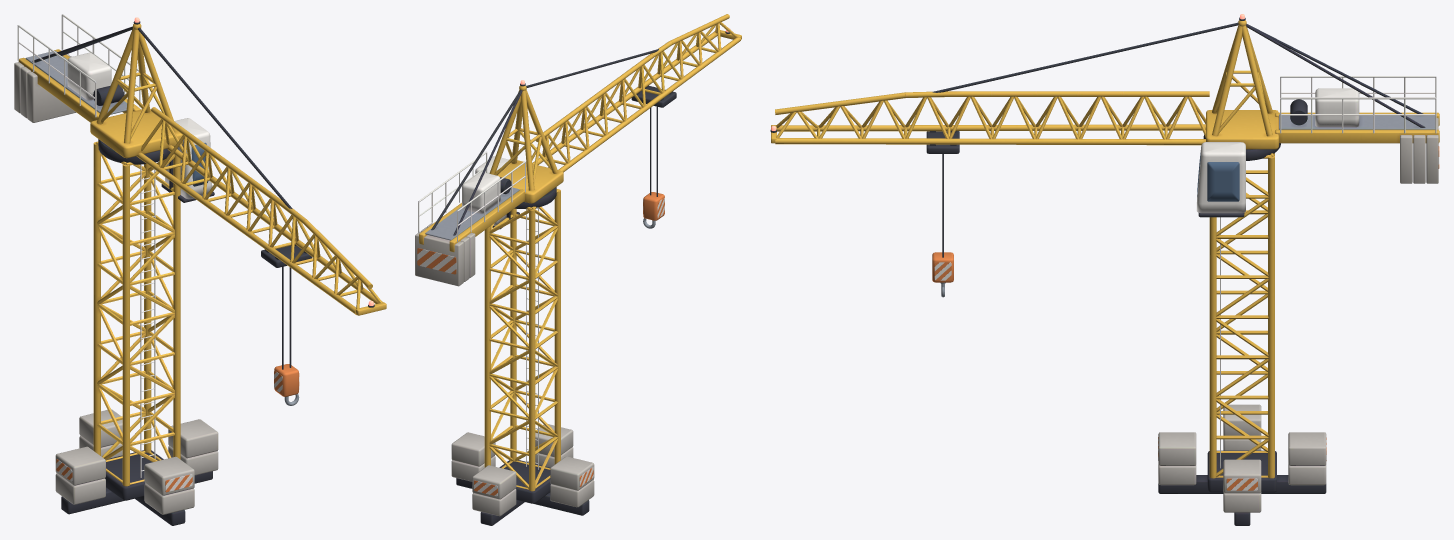
Rendered from construction-crane.glb.
3 views of the same model, side by side, from view 1: azimuth 30°, elevation 25°; view 2: azimuth 150°, elevation 25°; view 3: azimuth 270°, elevation 25° (orthographic). The views are drawn at different scales.
Parts seen in each view (by area): view 1: construction-crane_body, construction-crane_upper, construction-crane_trolley_assembly; view 2: construction-crane_body, construction-crane_upper, construction-crane_trolley_assembly; view 3: construction-crane_upper, construction-crane_body, construction-crane_trolley_assembly, construction-crane_upper_windows.
Boxes of the visible parts, x1,y1,x2,y2 form: construction-crane_body: (55,141,218,525); construction-crane_upper: (14,14,386,315); construction-crane_trolley_assembly: (261,244,312,405); construction-crane_body: (451,189,594,525); construction-crane_upper: (415,14,741,286); construction-crane_trolley_assembly: (631,85,676,228); construction-crane_upper: (770,17,1439,217); construction-crane_body: (1158,153,1326,525); construction-crane_trolley_assembly: (926,131,959,297); construction-crane_upper_windows: (1197,153,1239,201).
Size of the model in its own units: 4.62 by 14.41 by 18.33.
Materials: 8 (2 with a texture image).
